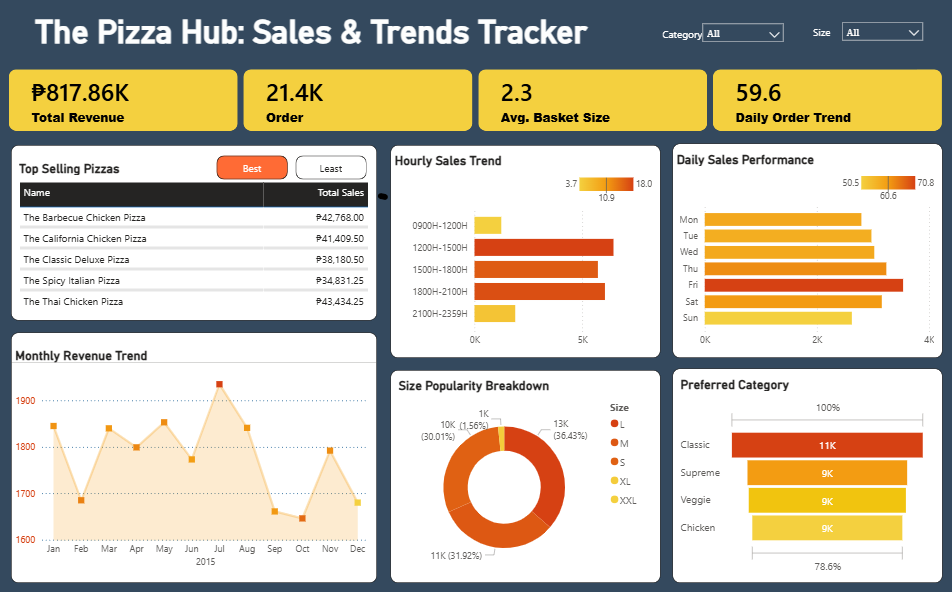

The dashboard page shown, as its layout file describes it:
{"tool":"powerbi","page":{"name":"Page 1","canvas":[1280,800],"ordinal":0},"visuals":[{"type":"slicer","fields":{"Values":["Pizzas.Size"]},"box":[1118.4,12.5,128.3,65],"z":0,"group":"g2"},{"type":"slicer","fields":{"Values":["Pizza Type.Category"]},"box":[931.7,13.3,128.3,65],"z":0,"group":"g1"},{"type":"textbox","box":[0,14,840,78],"z":0},{"type":"shape","box":[1060,30.4,82,30.5],"z":1000,"group":"g2"},{"type":"shape","box":[873.3,31.2,82,30.5],"z":1000,"group":"g1"},{"type":"cardVisual","fields":{"Data":["Key Measures.Total Sales","Key Measures.Orders","Key Measures.Average Order Per Pizza","Key Measures.Average Order Per Day"]},"box":[0,78,1280,116],"z":1000},{"type":"barChart","title":"Hourly Sales Trend","fields":{"Category":["Orders.Time Stomp"],"Y":["Key Measures.Order"]},"box":[526,196,360,284],"z":2000},{"type":"barChart","title":"Daily Sales Performance","fields":{"Y":["Key Measures.Order"],"Category":["Date Table.Day"]},"box":[902,194,360,286],"z":3000},{"type":"lineChart","title":"Monthly Revenue Trend","fields":{"Y":["Key Measures.Order"],"Category":["Date Table.Year","Date Table.Month"]},"box":[20,446,488,334],"z":4000},{"type":"donutChart","title":"Size Popularity Breakdown","fields":{"Category":["Pizzas.Size"],"Y":["Key Measures.Order"]},"box":[526,496,360,284],"z":5000},{"type":"funnel","title":"Preferred Category","fields":{"Category":["Pizza Type.Category"],"Y":["Key Measures.Order"]},"box":[902,494,360,286],"z":6000},{"type":"tableEx","title":"Top Selling Pizzas","fields":{"Values":["Pizza Type.Name","Key Measures.Total Sales"]},"box":[20,196,488,234],"z":8000},{"type":"bookmarkNavigator","box":[294,210,200,32],"z":9000},{"type":"group","id":"g1","title":"Category Slice","box":[873.3,13.3,186.7,65],"z":10000},{"type":"group","id":"g2","title":"Size Slice","box":[1060,12.5,186.2,65],"z":11000}]}

Visuals, with their boxes in screenshot pixels (x1, y1, x2, y2), scaled from the page's 1280x800 canvas onto the 952x592 screenshot:
slicer - Pizzas.Size: [832, 9, 927, 57]
slicer - Pizza Type.Category: [693, 10, 788, 58]
textbox: [0, 10, 625, 68]
shape: [788, 22, 849, 45]
shape: [650, 23, 711, 46]
cardVisual - Key Measures.Total Sales x Key Measures.Orders: [0, 58, 951, 144]
"Hourly Sales Trend" barChart: [391, 145, 659, 355]
"Daily Sales Performance" barChart: [671, 144, 939, 355]
"Monthly Revenue Trend" lineChart: [15, 330, 378, 577]
"Size Popularity Breakdown" donutChart: [391, 367, 659, 577]
"Preferred Category" funnel: [671, 366, 939, 577]
"Top Selling Pizzas" tableEx: [15, 145, 378, 318]
bookmarkNavigator: [219, 155, 367, 179]
"Category Slice" group: [650, 10, 788, 58]
"Size Slice" group: [788, 9, 927, 57]
